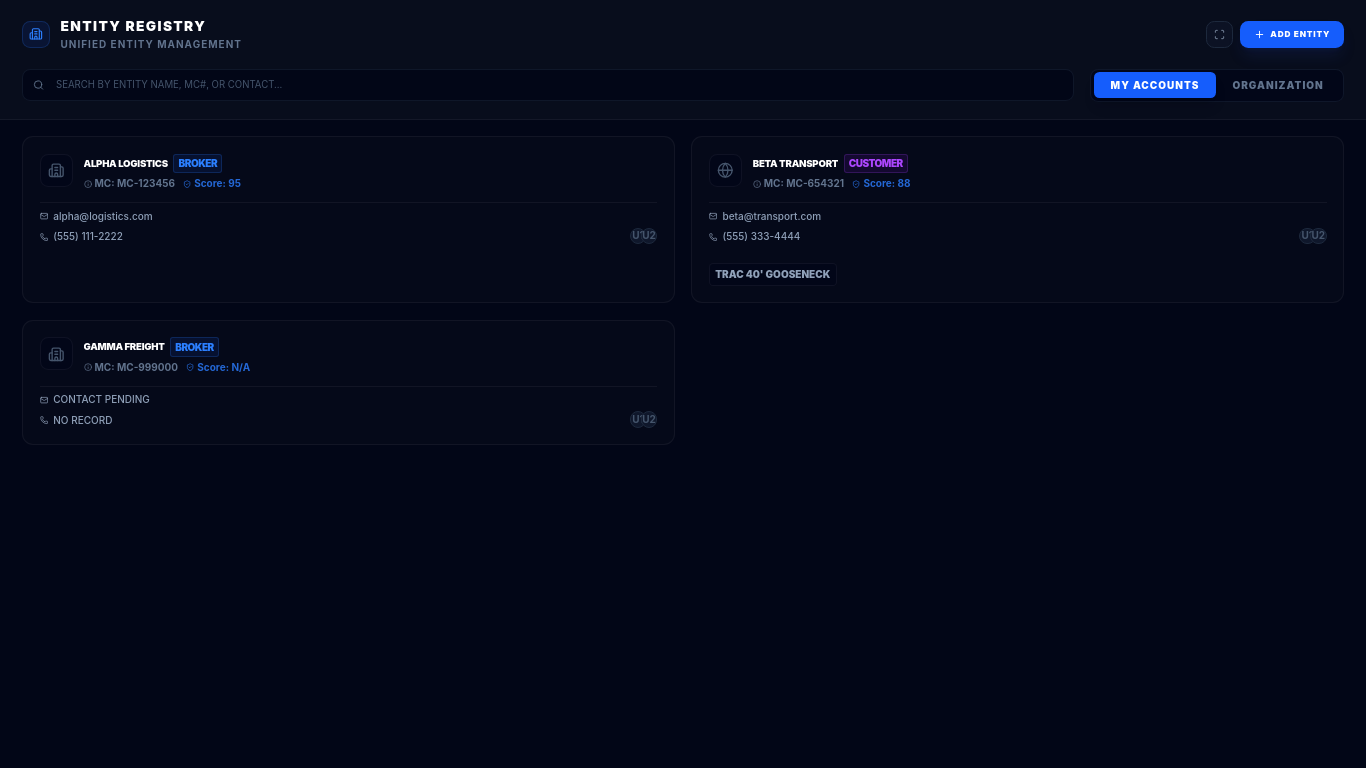
Test: BrokerManager component › add entity form › closes form when Cancel Changes is clicked
The image size is (1366, 768).
Click the button "Add Entity": {"x": 1292, "y": 34} [1240,21,1344,48]
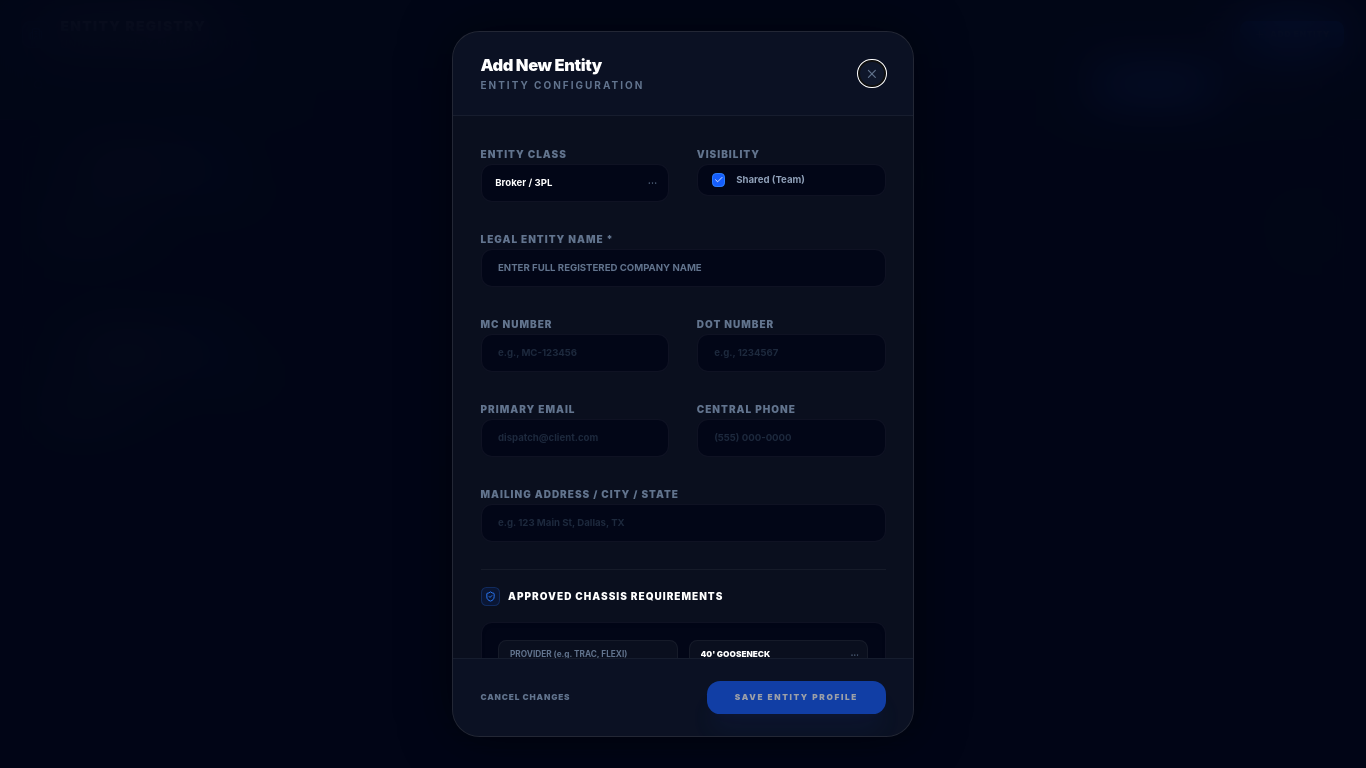
Now the heading "Add New Entity" is shown, box [480,55,602,75]
Click the button "Cancel Changes": {"x": 525, "y": 698} [480,692,570,703]
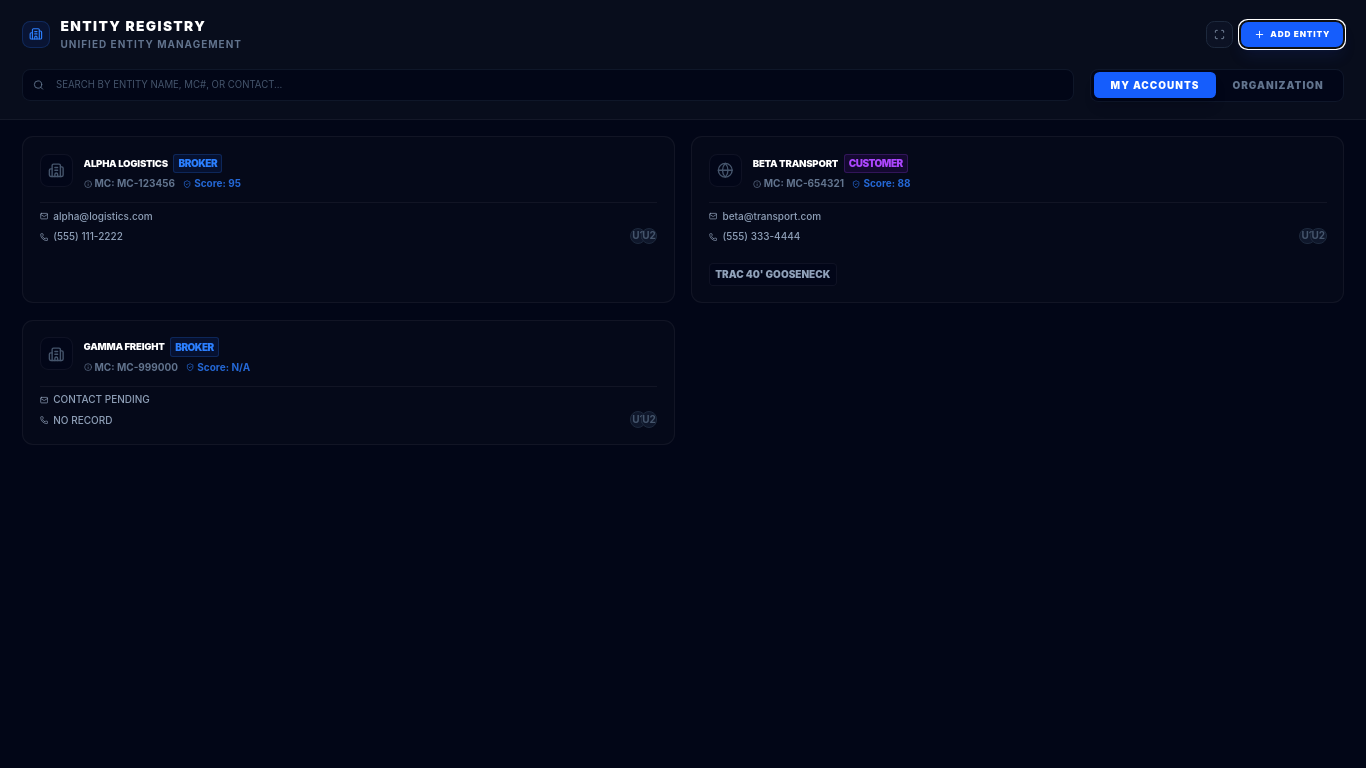
Now the heading "Add New Entity" is gone
